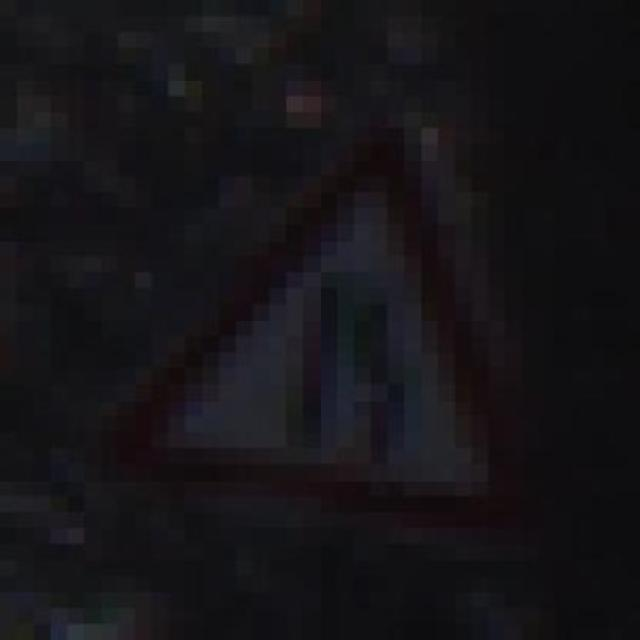-Road narrows on right: (118, 89, 539, 554)
